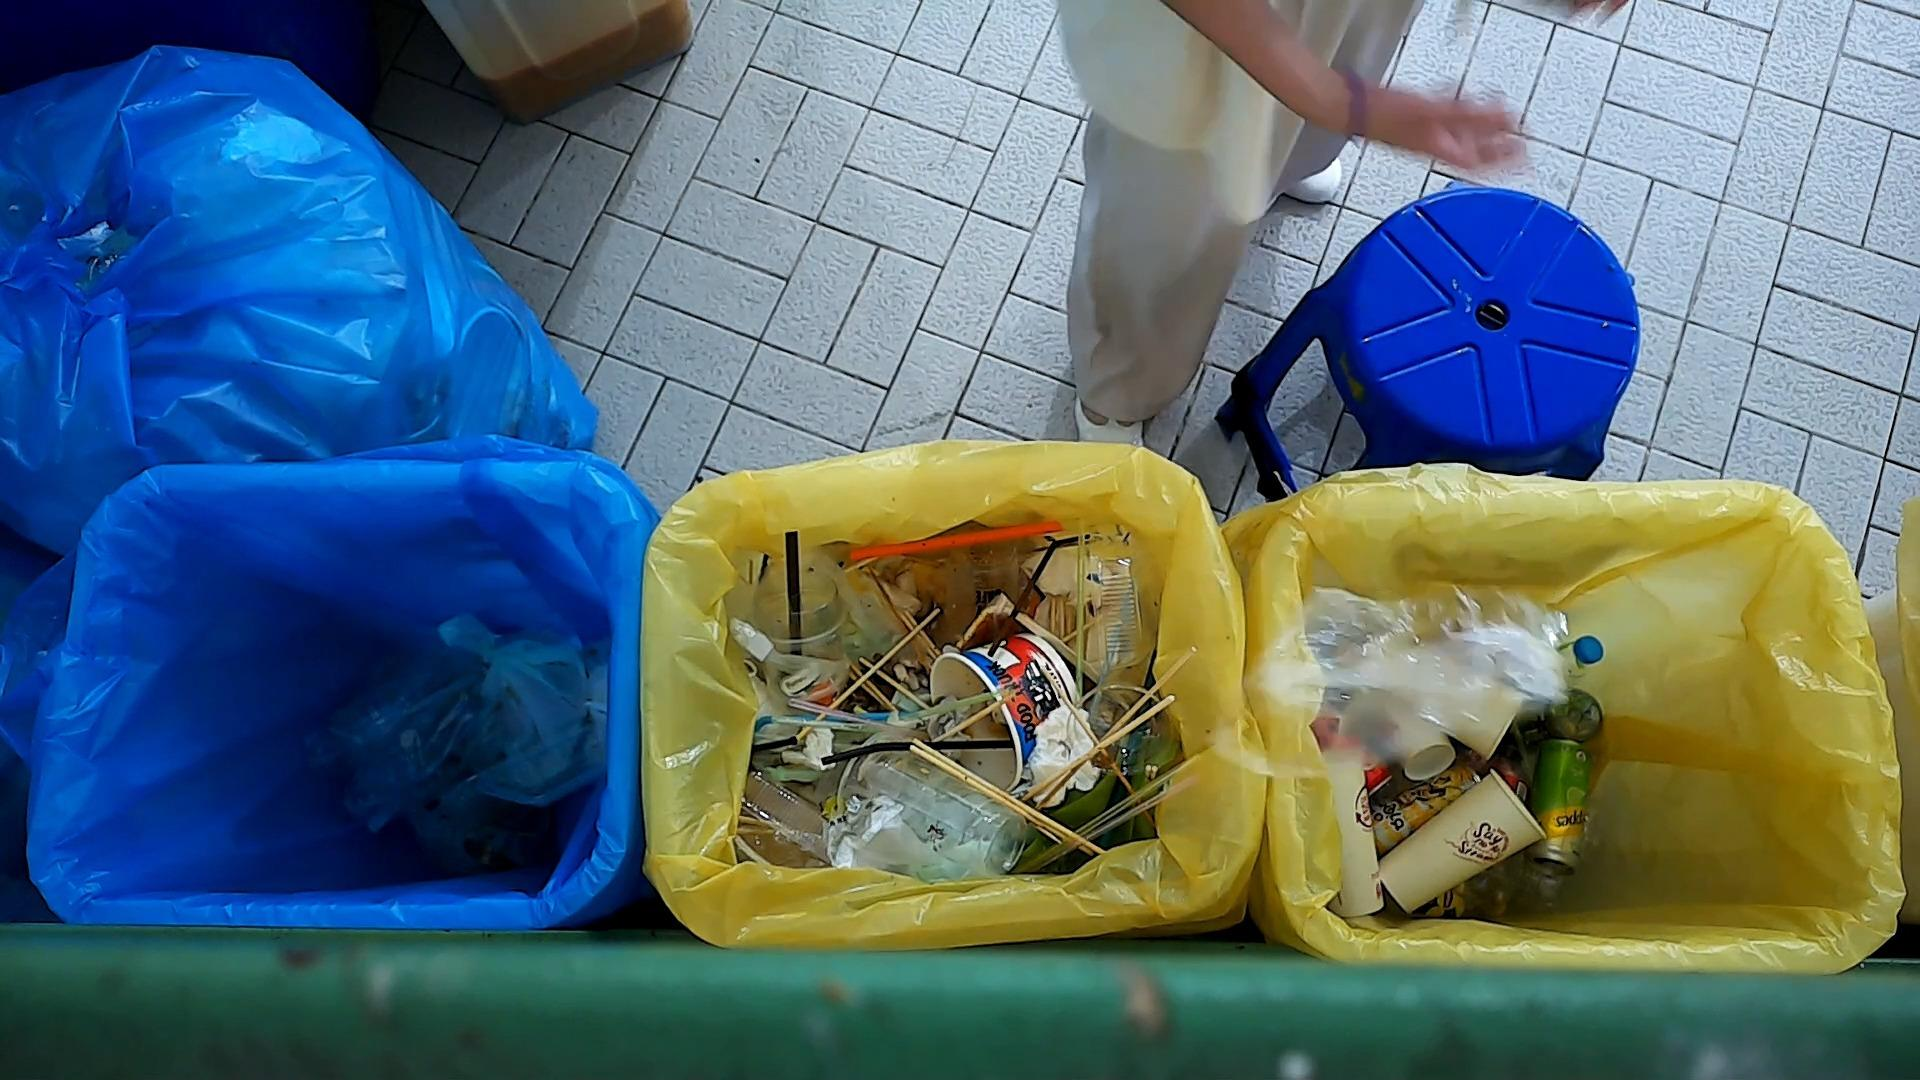can: (1366, 758, 1495, 849), (1528, 746, 1592, 887)
dirty food container: (920, 632, 1083, 803)
filled plastic bag: (299, 655, 469, 841), (431, 616, 584, 777)
food container: (1071, 538, 1170, 674)
plastic bag: (1209, 580, 1569, 781)
plastic bottle: (1511, 688, 1609, 750)
plastic cup: (833, 727, 1023, 880), (749, 564, 851, 674)
sticks: (1026, 642, 1204, 808), (906, 733, 1110, 862), (793, 605, 942, 746), (873, 576, 940, 658), (843, 657, 894, 712)
straw: (1011, 748, 1213, 885), (843, 518, 1067, 566), (985, 535, 1064, 665), (810, 736, 1019, 773), (1071, 517, 1095, 711), (779, 529, 807, 658), (891, 692, 992, 727), (791, 696, 873, 727), (740, 735, 808, 761)
tissue paper: (1029, 703, 1105, 808)
zero waste cup: (1381, 765, 1549, 906), (1315, 749, 1396, 919)
